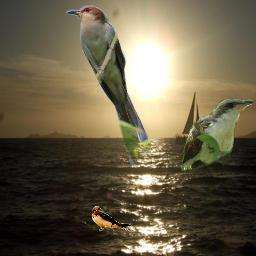Cuckoo: (66, 5, 151, 167), (180, 98, 253, 172)
Swallow: (91, 206, 136, 233)
